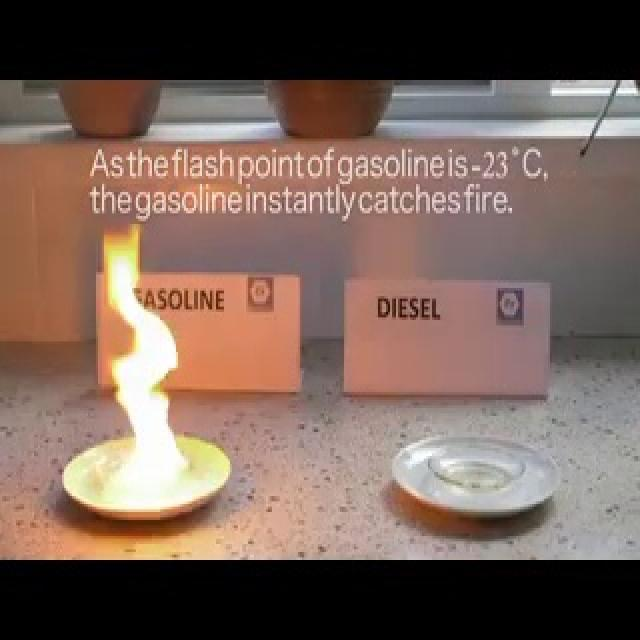fire: (75, 217, 200, 511)
